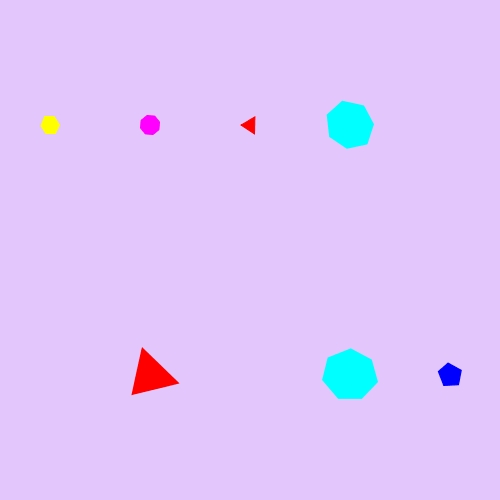heptagon: (320, 346, 381, 405), (322, 98, 378, 152)
hexagon: (35, 112, 65, 138)
octagon: (135, 110, 165, 140)
pentagon: (434, 359, 466, 391)
triangle: (125, 348, 176, 402), (238, 112, 263, 138)
